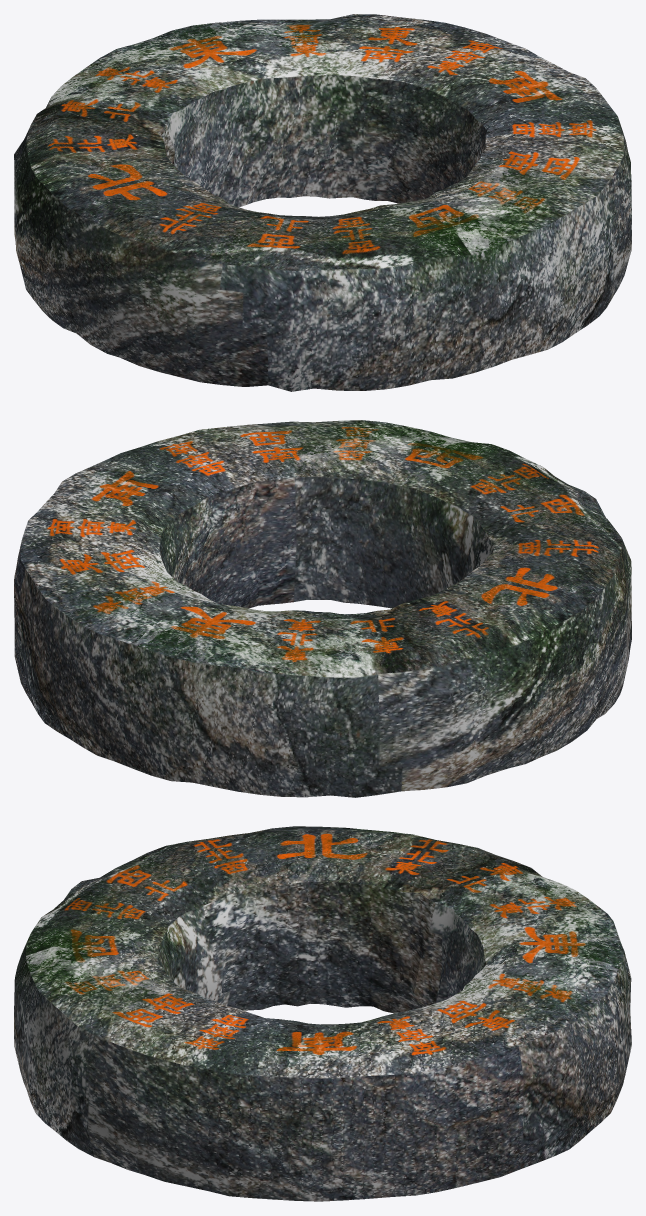
Rendered from rolling_position_low.fbx.
The picture shows the model from 3 angles, top to bottom: view 1: azimuth 30°, elevation 25°; view 2: azimuth 150°, elevation 25°; view 3: azimuth 270°, elevation 25°; orthographic projection.
Visible parts, largest first — view 1: polySurface4; view 2: polySurface4; view 3: polySurface4.
Part boxes in pixels (x1=…): polySurface4: x1=14, y1=14, x2=631, y2=391; polySurface4: x1=14, y1=420, x2=631, y2=797; polySurface4: x1=14, y1=826, x2=631, y2=1201.
Bounding box in the file's own units: 0.8964 × 0.2196 × 0.8982.
